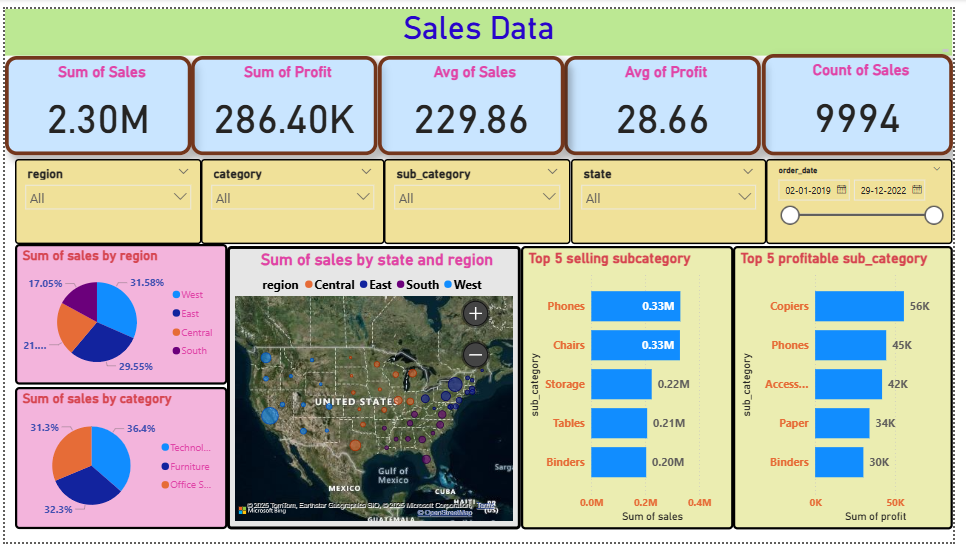

The dashboard page shown, as its layout file describes it:
{"tool":"powerbi","page":{"name":"Dashboard","canvas":[1280,720],"ordinal":18},"visuals":[{"type":"textbox","title":"Sales Data","box":[0,0,1280.2,63.4],"z":0},{"type":"card","title":"Sum of Sales","fields":{"Values":["Sum(orders.sales)"]},"box":[0,63.4,252,133.9],"z":1000},{"type":"card","title":"Sum of Profit","fields":{"Values":["Sum(orders.profit)"]},"box":[252,63.4,252,133.9],"z":2000},{"type":"card","title":"Avg of Profit","fields":{"Values":["Avg(orders.profit)"]},"box":[756,63.4,266.4,133.9],"z":3000},{"type":"card","title":"Avg of Sales","fields":{"Values":["Avg(orders.sales)"]},"box":[504,63.4,252,133.9],"z":4000},{"type":"card","title":"Count of Sales","fields":{"Values":["CountNonNull(orders.sales)"]},"box":[1022.4,60.5,257.8,136.8],"z":5000},{"type":"slicer","fields":{"Values":["orders.order_date"]},"box":[1028.2,203,252,115.2],"z":6000},{"type":"slicer","fields":{"Values":["orders.category"]},"box":[265,203,247.7,115.2],"z":7000},{"type":"slicer","fields":{"Values":["orders.state"]},"box":[764.6,203,263.5,115.2],"z":8000},{"type":"slicer","fields":{"Values":["orders.sub_category"]},"box":[512.6,203,252,115.2],"z":9000},{"type":"pieChart","fields":{"Category":["orders.region"],"Y":["Sum(orders.sales)"]},"box":[13,318.2,286.6,190.1],"z":10000},{"type":"pieChart","fields":{"Category":["orders.category"],"Y":["Sum(orders.sales)"]},"box":[13,511.2,286.6,191.5],"z":11000},{"type":"slicer","fields":{"Values":["orders.region"]},"box":[13,203,252,115.2],"z":12000},{"type":"barChart","title":"Top 5 selling subcategory","fields":{"Y":["Sum(orders.sales)"],"Category":["orders.sub_category"]},"box":[697,319.7,286.6,383],"z":13000},{"type":"barChart","title":"Top 5 profitable sub_category","fields":{"Y":["Sum(orders.profit)"],"Category":["orders.sub_category"]},"box":[983.5,319.7,296.6,383],"z":14000},{"type":"map","fields":{"Category":["orders.state"],"Series":["orders.region"],"Size":["Sum(orders.sales)"]},"box":[299.5,319.7,397.4,383],"z":15000}]}

Visuals, with their boxes in screenshot pixels (x1, y1, x2, y2), scaled from the page's 1280x720 canvas onto the 966x553 screenshot:
"Sales Data" textbox: [left=0, top=0, right=965, bottom=49]
"Sum of Sales" card: [left=0, top=49, right=190, bottom=152]
"Sum of Profit" card: [left=190, top=49, right=380, bottom=152]
"Avg of Profit" card: [left=571, top=49, right=772, bottom=152]
"Avg of Sales" card: [left=380, top=49, right=571, bottom=152]
"Count of Sales" card: [left=772, top=46, right=965, bottom=152]
slicer - orders.order_date: [left=776, top=156, right=965, bottom=244]
slicer - orders.category: [left=200, top=156, right=387, bottom=244]
slicer - orders.state: [left=577, top=156, right=776, bottom=244]
slicer - orders.sub_category: [left=387, top=156, right=577, bottom=244]
pieChart - orders.region x Sum(orders.sales): [left=10, top=244, right=226, bottom=390]
pieChart - orders.category x Sum(orders.sales): [left=10, top=393, right=226, bottom=540]
slicer - orders.region: [left=10, top=156, right=200, bottom=244]
"Top 5 selling subcategory" barChart: [left=526, top=246, right=742, bottom=540]
"Top 5 profitable sub_category" barChart: [left=742, top=246, right=965, bottom=540]
map - orders.state x orders.region: [left=226, top=246, right=526, bottom=540]
